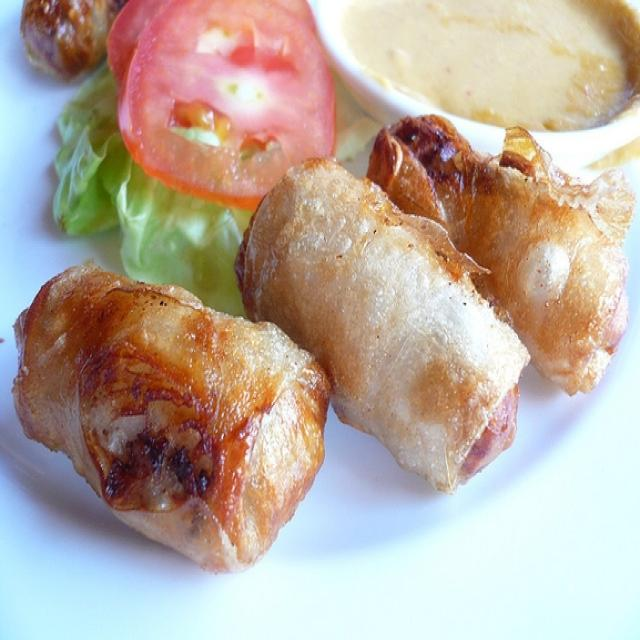炸货点心: (28, 60, 626, 610)
